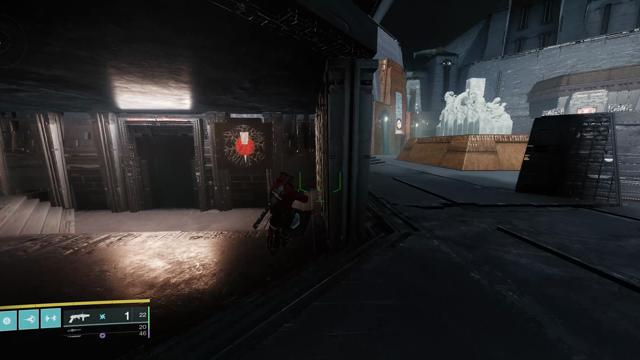give: (580, 109, 593, 113)
kill: (222, 124, 265, 167)
worship: (397, 120, 401, 129)
